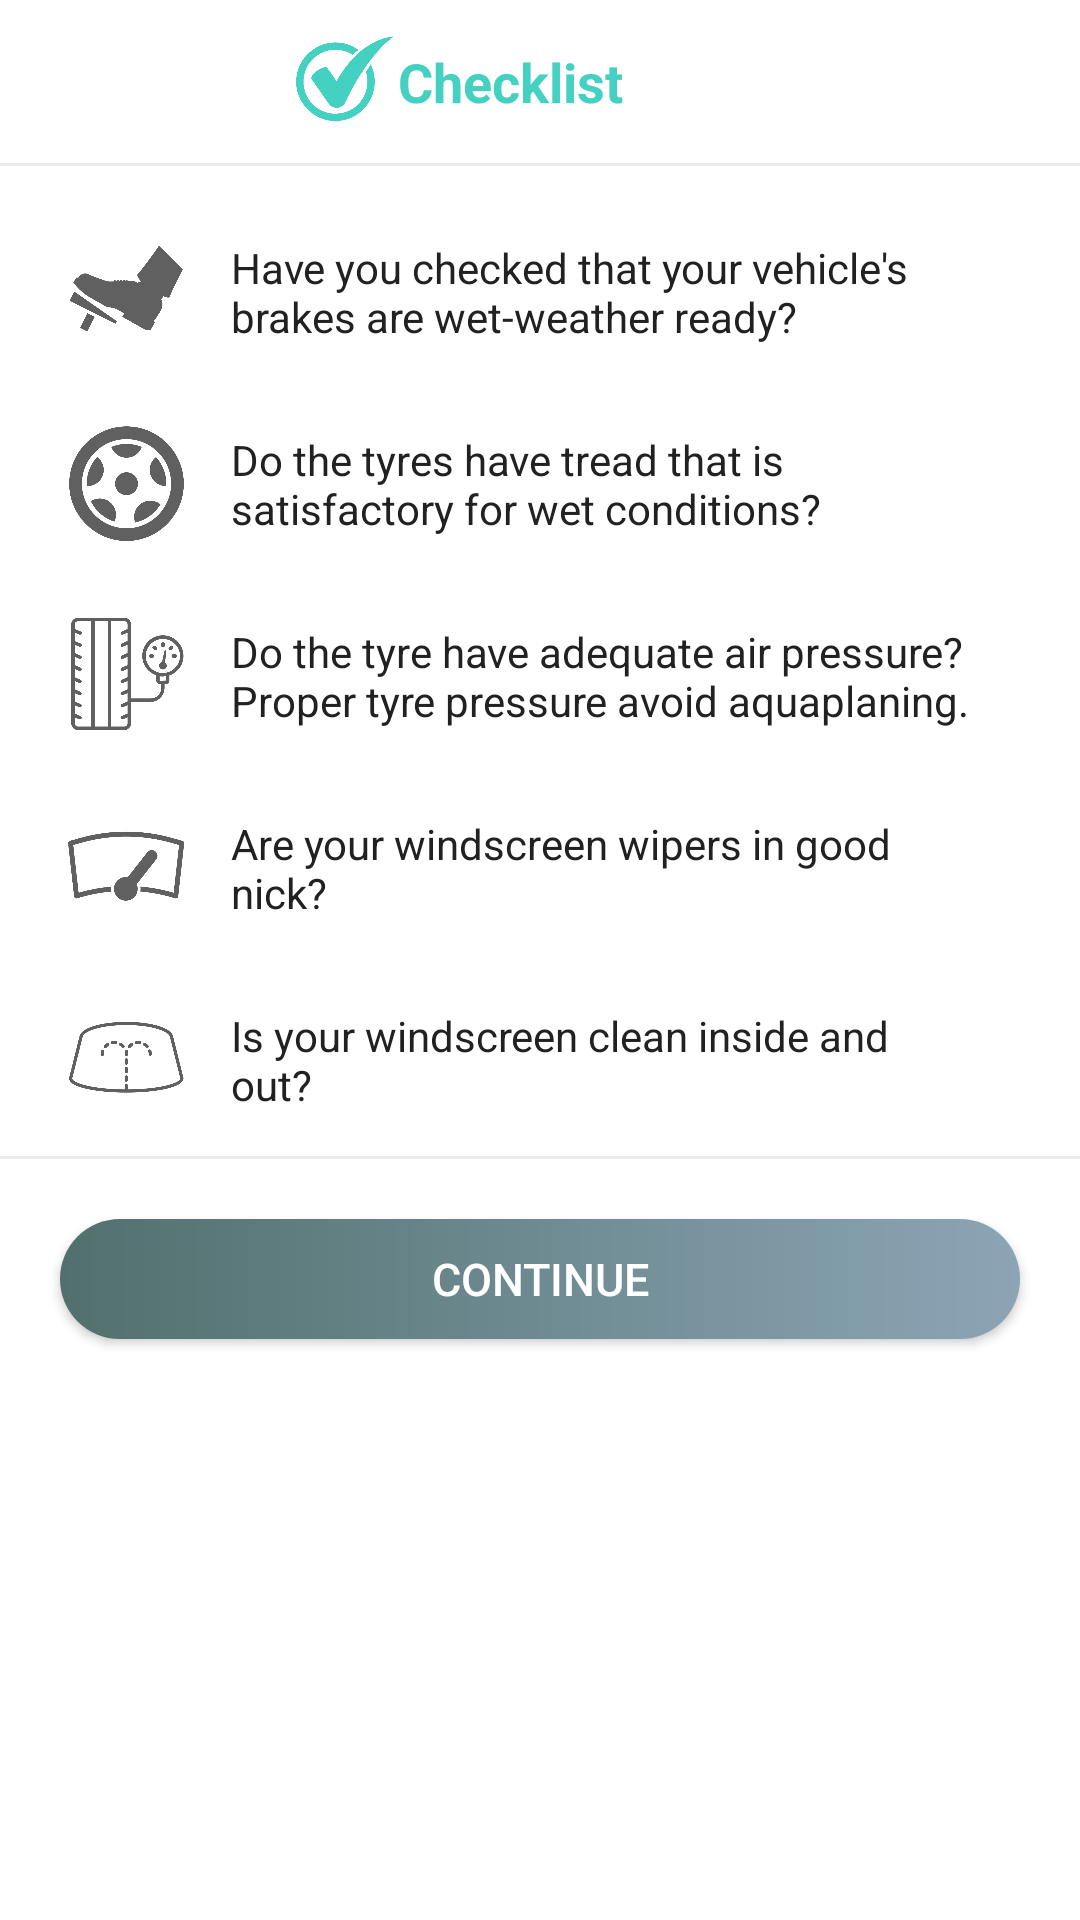

Icons on this 1080x1920 Android screen, each with its box as (x1, y1, x2, y2):
washer: (69, 1022, 184, 1093)
wind protect: (68, 832, 184, 901)
